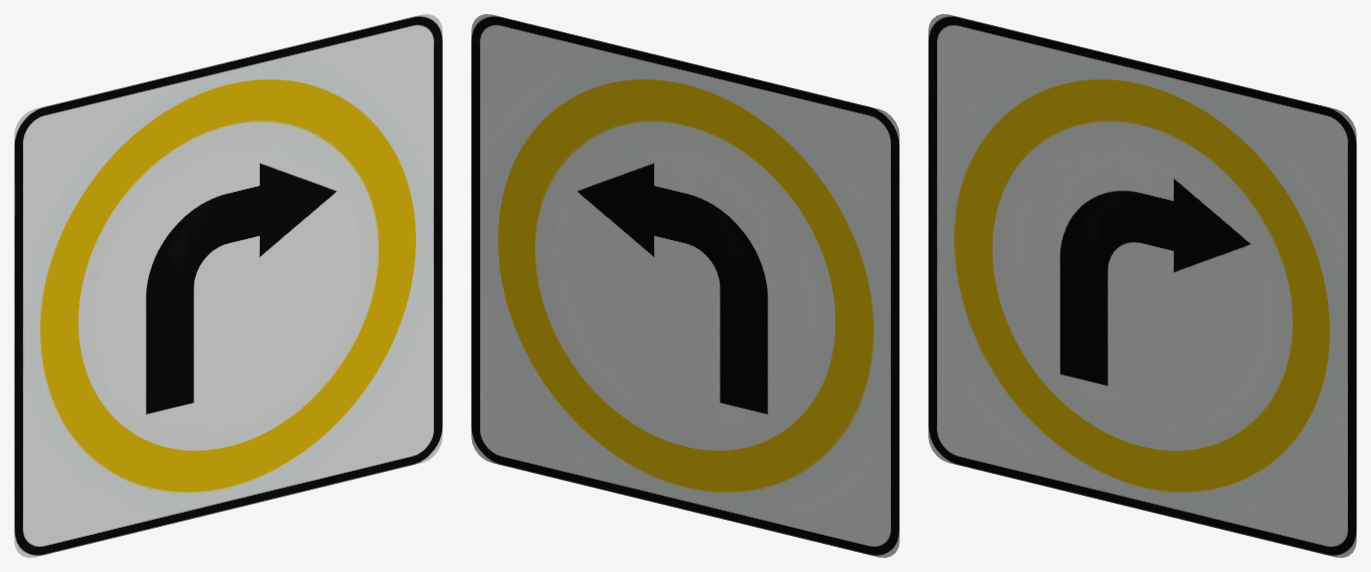
The model's file is amarelo_right.gltf.
The picture shows the model from 3 angles, left to right: view 1: azimuth 30°, elevation 25°; view 2: azimuth 150°, elevation 25°; view 3: azimuth 330°, elevation 25°; orthographic projection.
Parts seen in each view (by area): view 1: amarelo_right; view 2: amarelo_right; view 3: amarelo_right.
Boxes of the visible parts, x1,y1,x2,y2 form: amarelo_right: [14, 14, 442, 557]; amarelo_right: [471, 14, 899, 557]; amarelo_right: [928, 14, 1356, 557].
Bounding box in the file's own units: 1.51 × 1.51 × 3.36e-16.
Materials: 1 (1 with a texture image).
